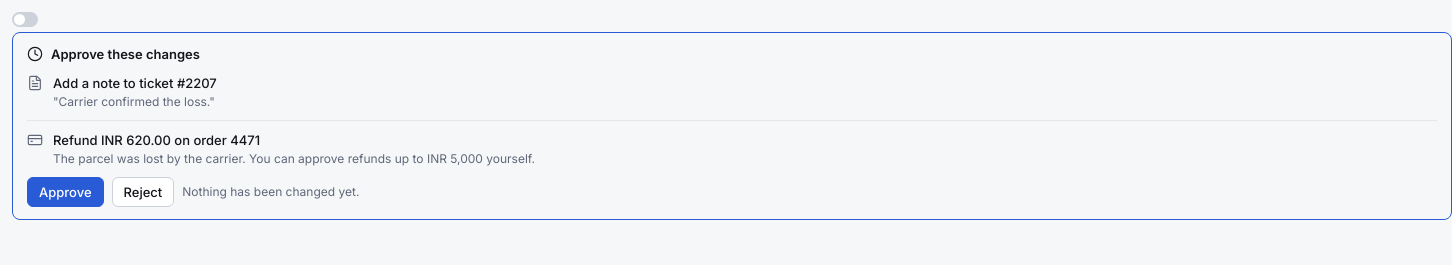
Test: an approval that is slow or fails › shows the server's words when approving fails, and stops at the change that failed
Click the button "Approve" at x=65, y=192, box [27,177,104,207]
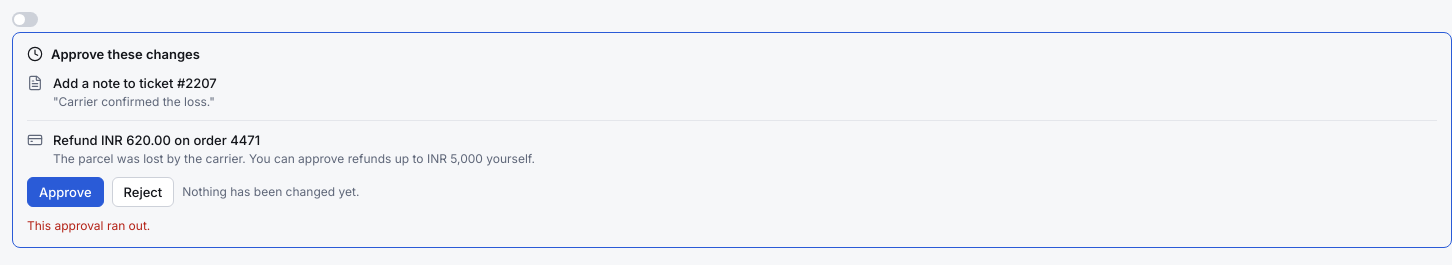
Expected: the message reads "This approval ran out.", [27,218,150,233]
